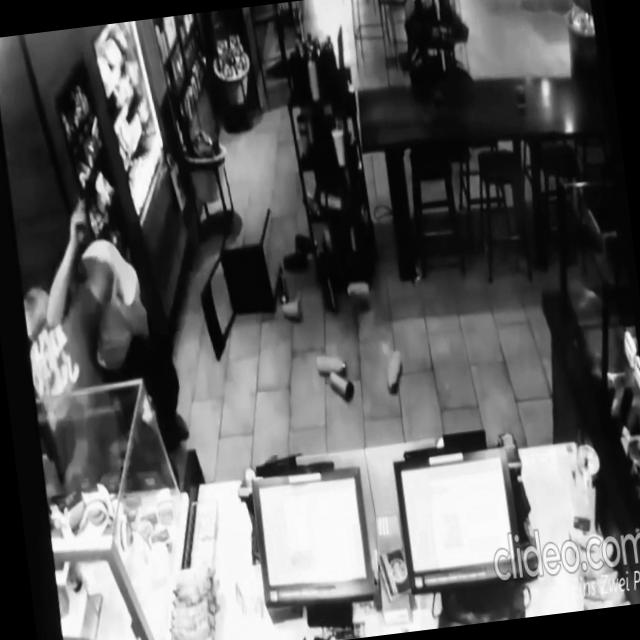gun: (72, 174, 102, 228)
person: (18, 248, 142, 501)
person with a gun: (28, 166, 195, 472)
